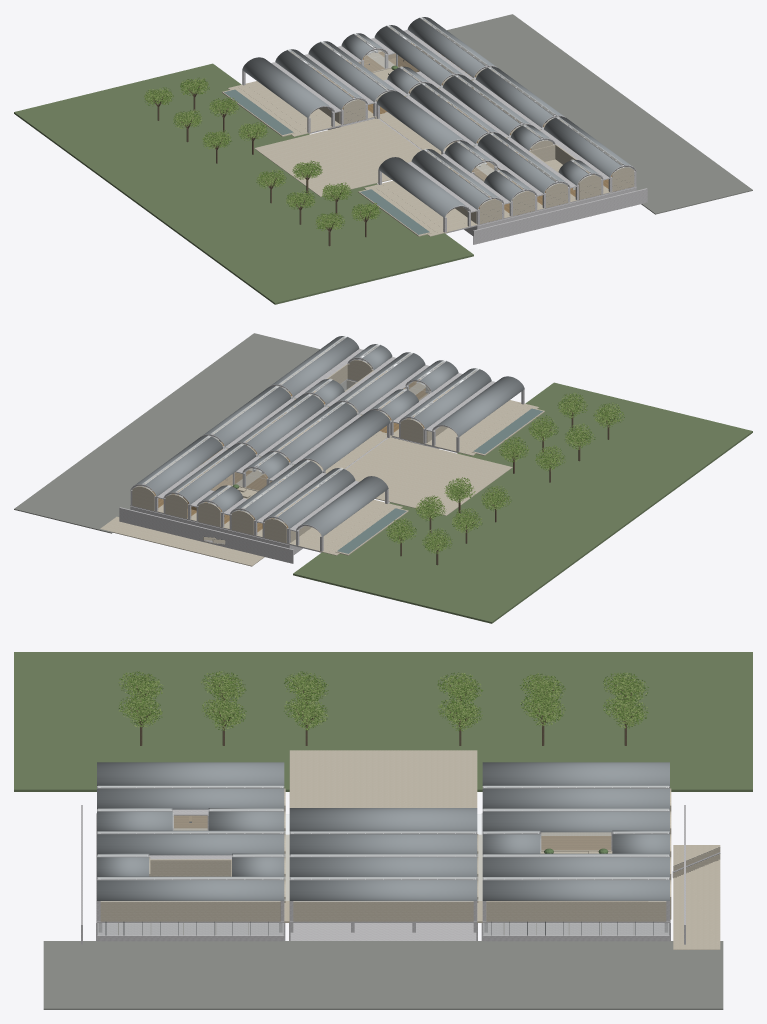
3 views of the same model, one above another, from view 1: azimuth 30°, elevation 25°; view 2: azimuth 150°, elevation 25°; view 3: azimuth 270°, elevation 25° (orthographic). The views are drawn at different scales.
Visible parts, largest first — view 1: 23_Complete_Architecture; view 2: 23_Complete_Architecture; view 3: 23_Complete_Architecture.
Boxes of the visible parts, x1,y1,x2,y2 form: 23_Complete_Architecture: (14, 14, 752, 304); 23_Complete_Architecture: (14, 333, 752, 623); 23_Complete_Architecture: (14, 652, 752, 1009).
Bounding box in the file's own units: 135 × 13.27 × 125.
Materials: 29 (5 with a texture image).
